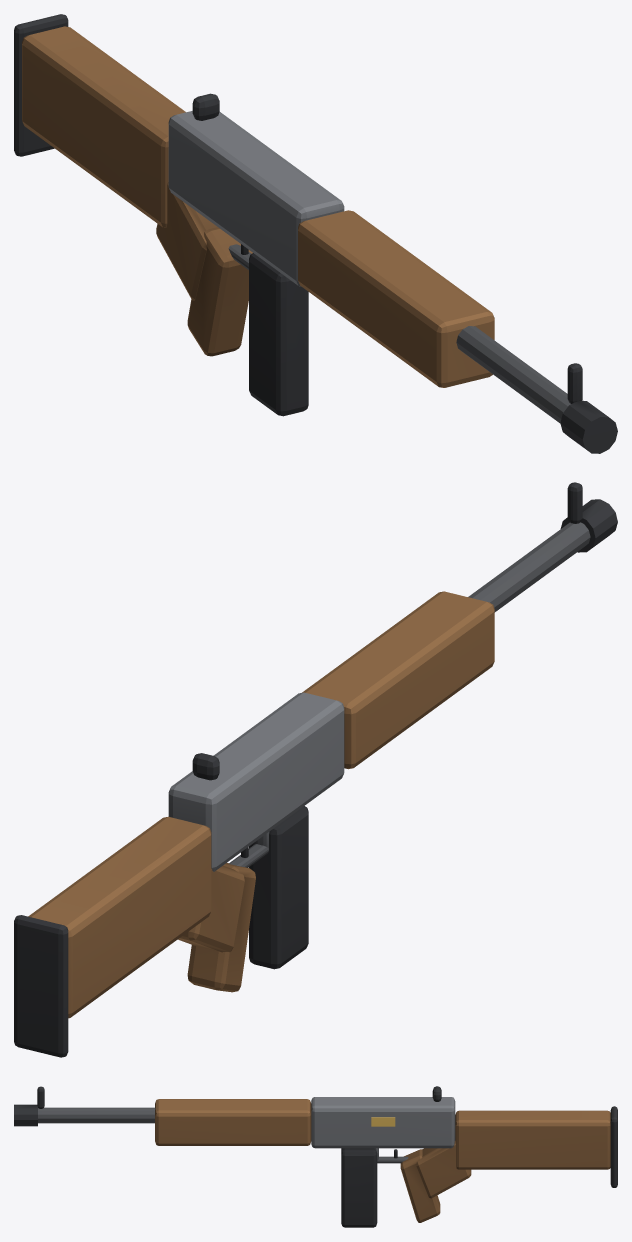
The model's file is warden_br.glb.
The picture shows the model from 3 angles, top to bottom: view 1: azimuth 30°, elevation 25°; view 2: azimuth 150°, elevation 25°; view 3: azimuth 270°, elevation 25°; orthographic projection. The views are drawn at different scales.
Parts seen in each view (by area): view 1: warden_br, mag; view 2: warden_br, mag; view 3: warden_br, mag.
Boxes of the visible parts, <box> form: warden_br: <box>14,14,617,453</box>; mag: <box>249,253,308,416</box>; warden_br: <box>14,482,617,1057</box>; mag: <box>249,806,308,969</box>; warden_br: <box>14,1086,617,1222</box>; mag: <box>341,1148,377,1227</box>.
Bounding box in the file's own units: 0.0598 × 0.2535 × 1.01.
